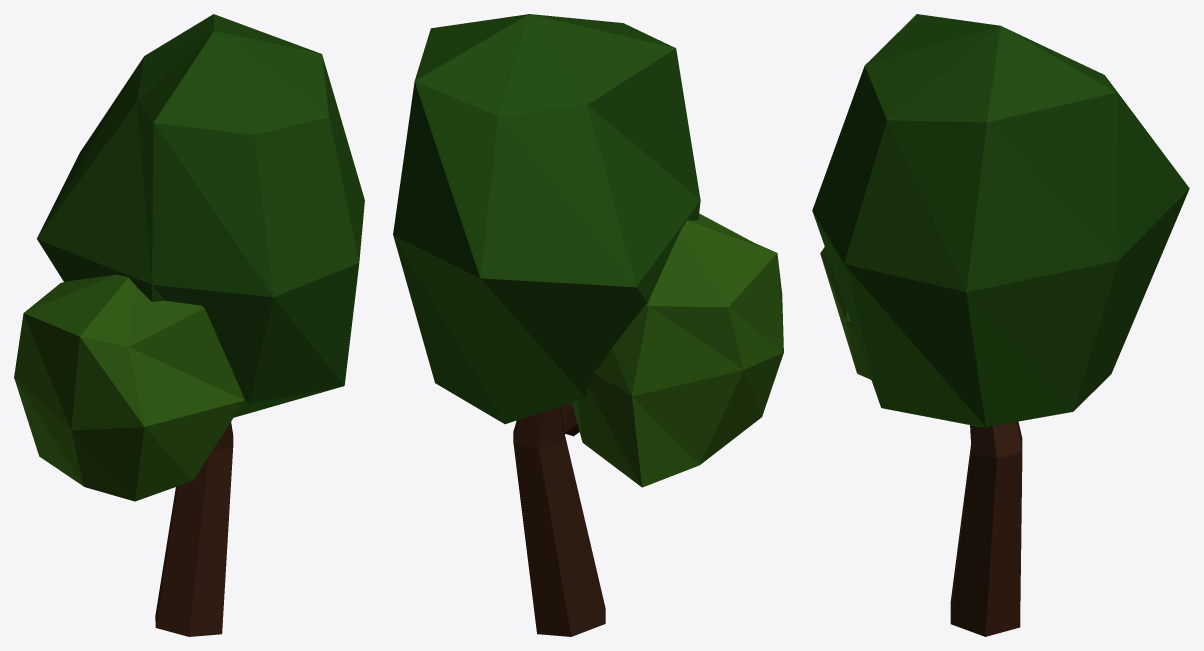
Rendered from SM_TreeCrooked.fbx.
3 renders of one model, left to right at view 1: azimuth 30°, elevation 25°; view 2: azimuth 150°, elevation 25°; view 3: azimuth 270°, elevation 25°, orthographic. The views are drawn at different scales.
Visible parts, largest first — view 1: SM_TreeCrooked • FBX; view 2: SM_TreeCrooked • FBX; view 3: SM_TreeCrooked • FBX.
Boxes of the visible parts, x1,y1,x2,y2 form: SM_TreeCrooked • FBX: [14, 14, 364, 636]; SM_TreeCrooked • FBX: [393, 14, 783, 636]; SM_TreeCrooked • FBX: [812, 14, 1189, 636].
Bounding box in the file's own units: 526 × 489 × 873.
